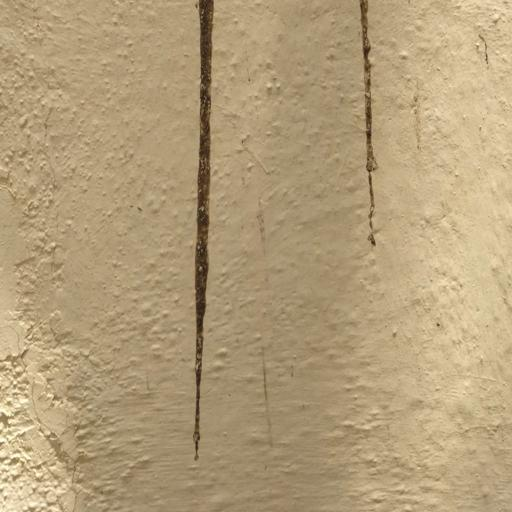stain: (165, 0, 247, 464), (335, 1, 416, 254)
